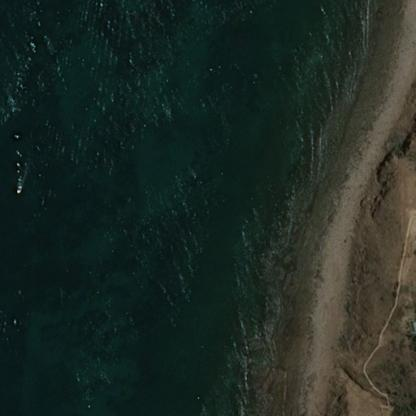ship: (12, 180, 27, 196)
